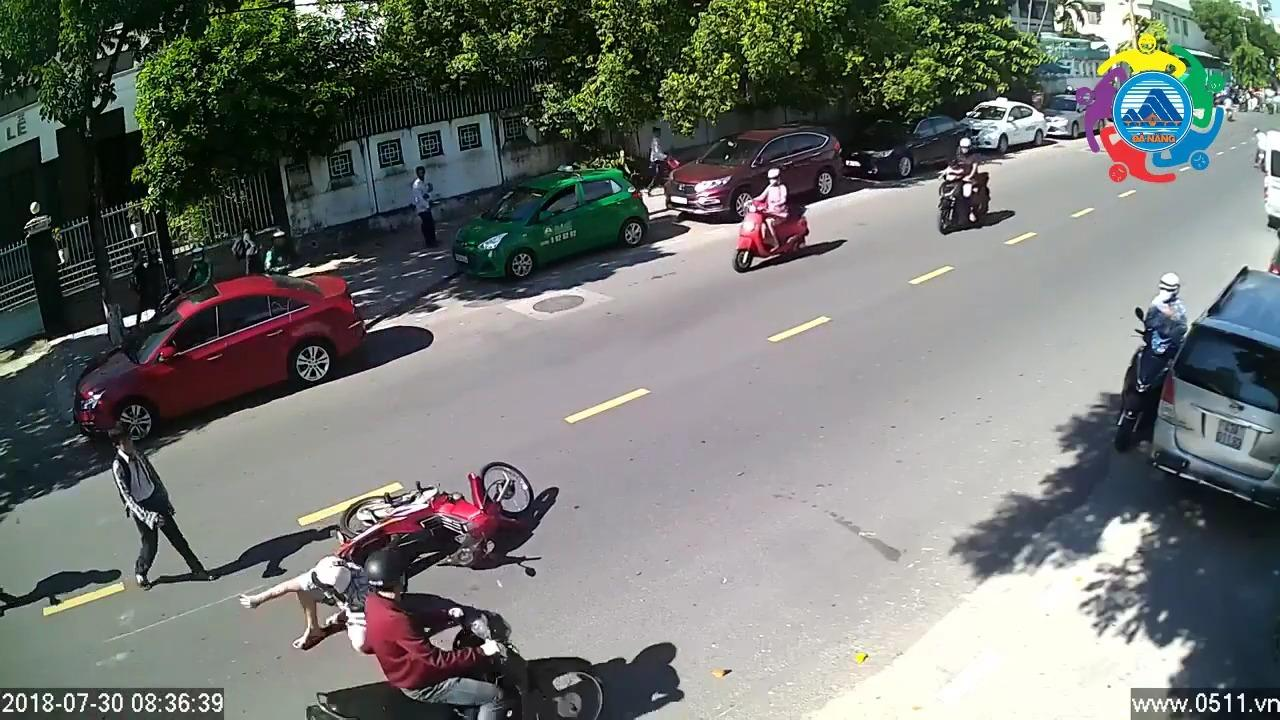accident: (311, 462, 552, 585)
car: (69, 260, 370, 450), (1144, 265, 1280, 538), (452, 160, 654, 293), (658, 122, 849, 223), (847, 99, 974, 184), (1018, 79, 1097, 143), (967, 95, 1052, 151)
motorcycle: (1119, 262, 1191, 455), (734, 168, 812, 273), (934, 137, 994, 233)
